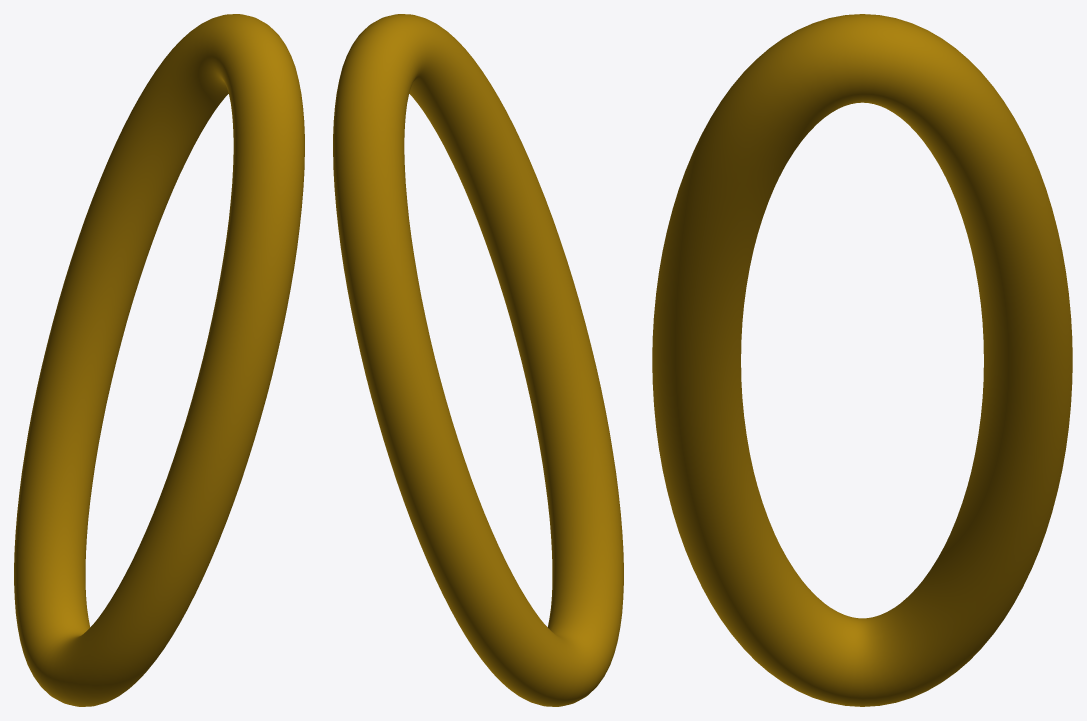
File: rope_c.dae
3 renders of one model, left to right at view 1: azimuth 30°, elevation 25°; view 2: azimuth 150°, elevation 25°; view 3: azimuth 270°, elevation 25°, orthographic. The views are drawn at different scales.
Parts seen in each view (by area): view 1: ID2; view 2: ID2; view 3: ID2.
Boxes of the visible parts, x1=… form: ID2: x1=14, y1=14, x2=304, y2=706; ID2: x1=333, y1=14, x2=623, y2=706; ID2: x1=652, y1=14, x2=1072, y2=706.
Bounding box in the file's own units: 0.0191 × 0.0237 × 0.0491.
